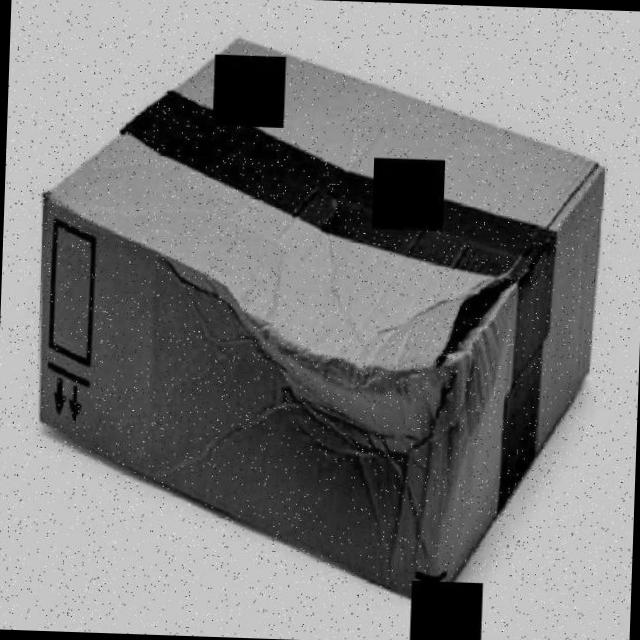box: (15, 26, 618, 616)
